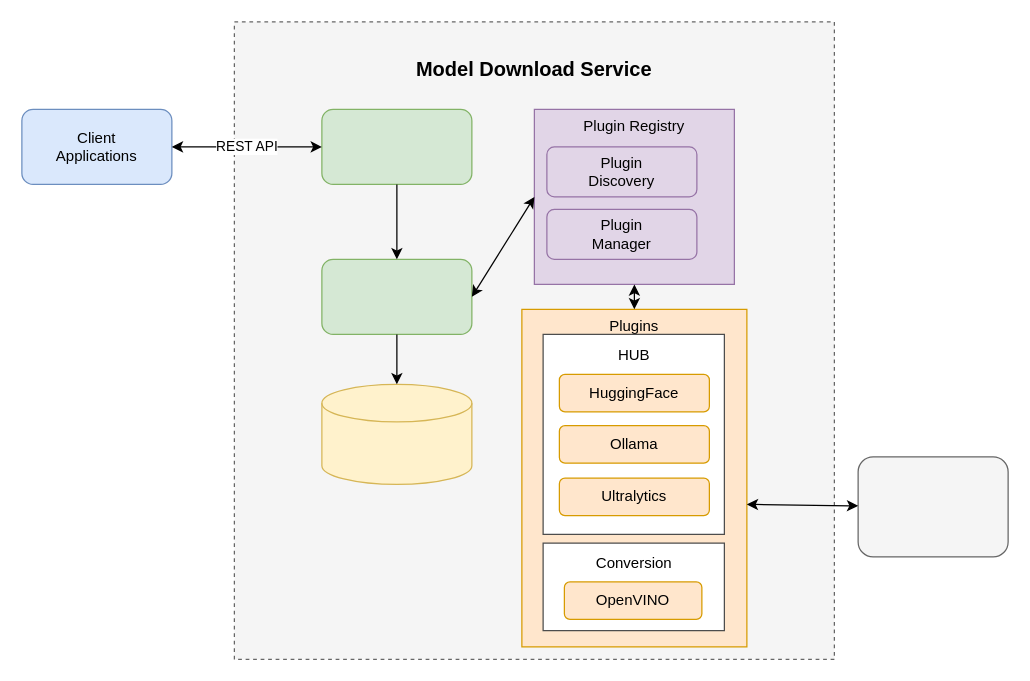
Image size: 1030x681. Some labels were removed from this diagram. Here are the shapes that lost their labels. From the top down, the centre of each, then its label:
At (396,146): "FastAPI Service".
At (396,296): "Model Manager".
At (396,433): "Downloaded Models Storage".
At (932,506): "External Model Repositories (HuggingFace, Ollama, etc.)".
